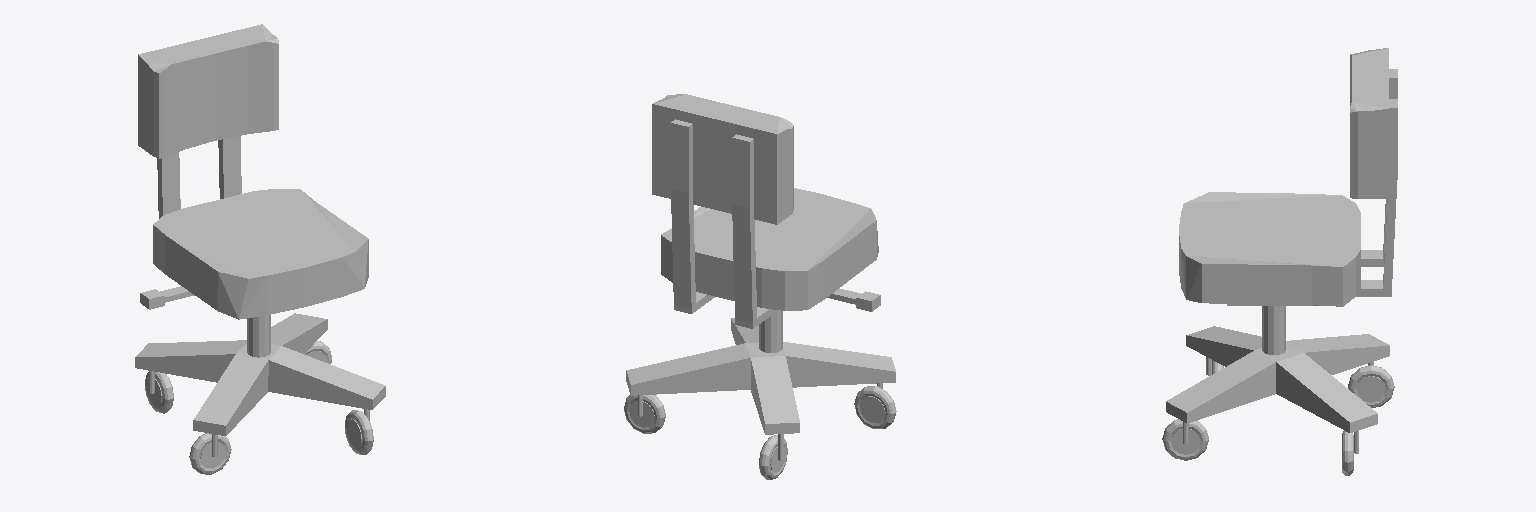
Rendered from Chair.obj.
The picture shows the model from 3 angles: view 1: azimuth 30°, elevation 25°; view 2: azimuth 150°, elevation 25°; view 3: azimuth 270°, elevation 25°; orthographic projection.
Visible parts, largest first — view 1: group[number redacted], group[number redacted], group[number redacted], group[number redacted], group[number redacted], group[number redacted], group[number redacted], group[number redacted], group[number redacted]; view 2: group[number redacted], group[number redacted], group[number redacted], group[number redacted], group[number redacted], group[number redacted], group[number redacted], group[number redacted], group[number redacted]; view 3: group[number redacted], group[number redacted], group[number redacted], group[number redacted], group[number redacted], group[number redacted], group[number redacted], group[number redacted].
Boxes of the visible parts, box(x1,y1,x2,y2) form: group[number redacted]: box(153, 189, 368, 319); group[number redacted]: box(138, 24, 278, 158); group[number redacted]: box(135, 313, 385, 435); group[number redacted]: box(189, 433, 231, 474); group[number redacted]: box(218, 136, 241, 198); group[number redacted]: box(157, 152, 180, 218); group[number redacted]: box(345, 409, 373, 454); group[number redacted]: box(145, 371, 173, 413); group[number redacted]: box(247, 315, 270, 357); group[number redacted]: box(661, 188, 878, 310); group[number redacted]: box(626, 318, 895, 434); group[number redacted]: box(652, 94, 793, 224); group[number redacted]: box(671, 119, 695, 308); group[number redacted]: box(732, 134, 756, 323); group[number redacted]: box(854, 383, 896, 428); group[number redacted]: box(624, 395, 665, 433); group[number redacted]: box(759, 434, 787, 479); group[number redacted]: box(759, 310, 782, 352); group[number redacted]: box(1179, 192, 1360, 306); group[number redacted]: box(1166, 326, 1389, 432); group[number redacted]: box(1350, 48, 1388, 198); group[number redacted]: box(1383, 99, 1397, 291); group[number redacted]: box(1162, 419, 1208, 460); group[number redacted]: box(1348, 362, 1394, 407); group[number redacted]: box(1262, 306, 1285, 354); group[number redacted]: box(1342, 430, 1358, 475).
Bounding box in the file's own units: 0.86 × 1.33 × 0.8.